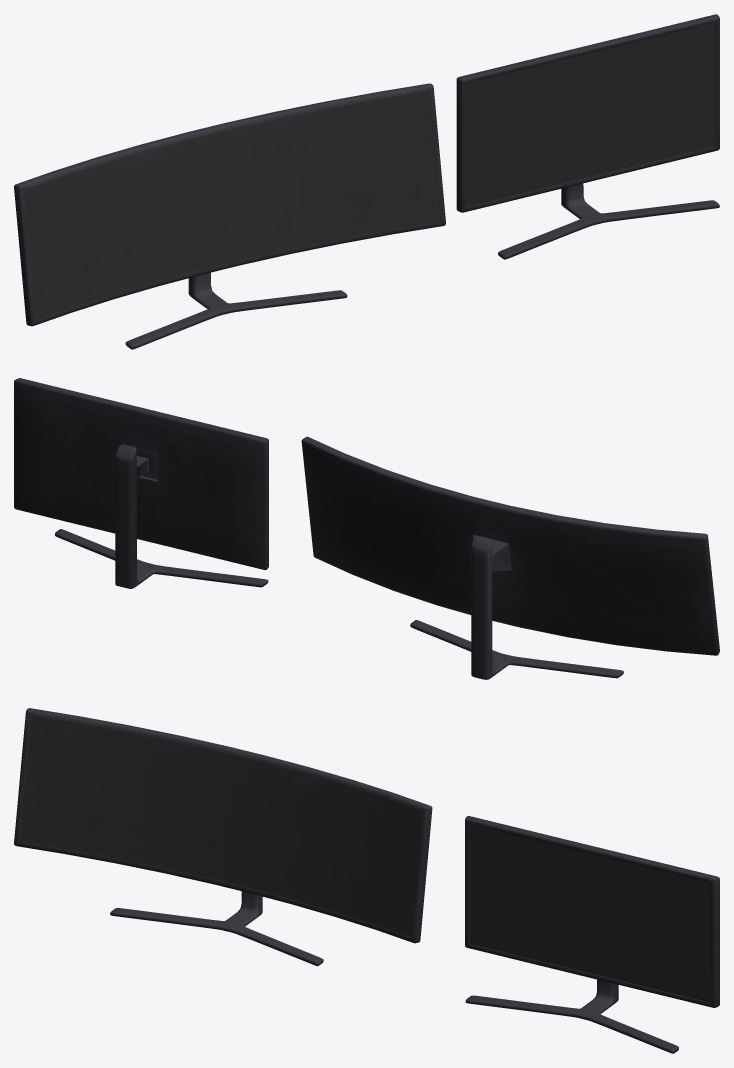
Rendered from monitor-dual-1k.glb.
3 views of the same model, one above another, from view 1: azimuth 30°, elevation 25°; view 2: azimuth 150°, elevation 25°; view 3: azimuth 330°, elevation 25° (orthographic). The views are drawn at different scales.
Parts seen in each view (by area): view 1: SM_widescreen_monitor_1, SM_standard_monitor_5, SM_widescreen_stand_2, SM_standard_monitor_stand_4; view 2: SM_widescreen_monitor_1, SM_standard_monitor_5, SM_standard_monitor_stand_4, SM_widescreen_stand_2; view 3: SM_widescreen_monitor_1, SM_standard_monitor_5, SM_widescreen_stand_2, SM_standard_monitor_stand_4.
Boxes of the visible parts, x1,y1,x2,y2 form: SM_widescreen_monitor_1: (14, 83, 445, 326); SM_standard_monitor_5: (456, 14, 719, 212); SM_widescreen_stand_2: (125, 272, 347, 349); SM_standard_monitor_stand_4: (498, 183, 719, 259); SM_widescreen_monitor_1: (301, 436, 719, 655); SM_standard_monitor_5: (14, 378, 268, 569); SM_standard_monitor_stand_4: (55, 444, 268, 588); SM_widescreen_stand_2: (410, 536, 623, 679); SM_widescreen_monitor_1: (14, 708, 432, 943); SM_standard_monitor_5: (465, 816, 719, 1007); SM_widescreen_stand_2: (110, 891, 323, 966); SM_standard_monitor_stand_4: (465, 979, 678, 1053).
Bounding box in the file's own units: 1.25 × 0.3015 × 0.1407.
2 materials, 2 textured.
